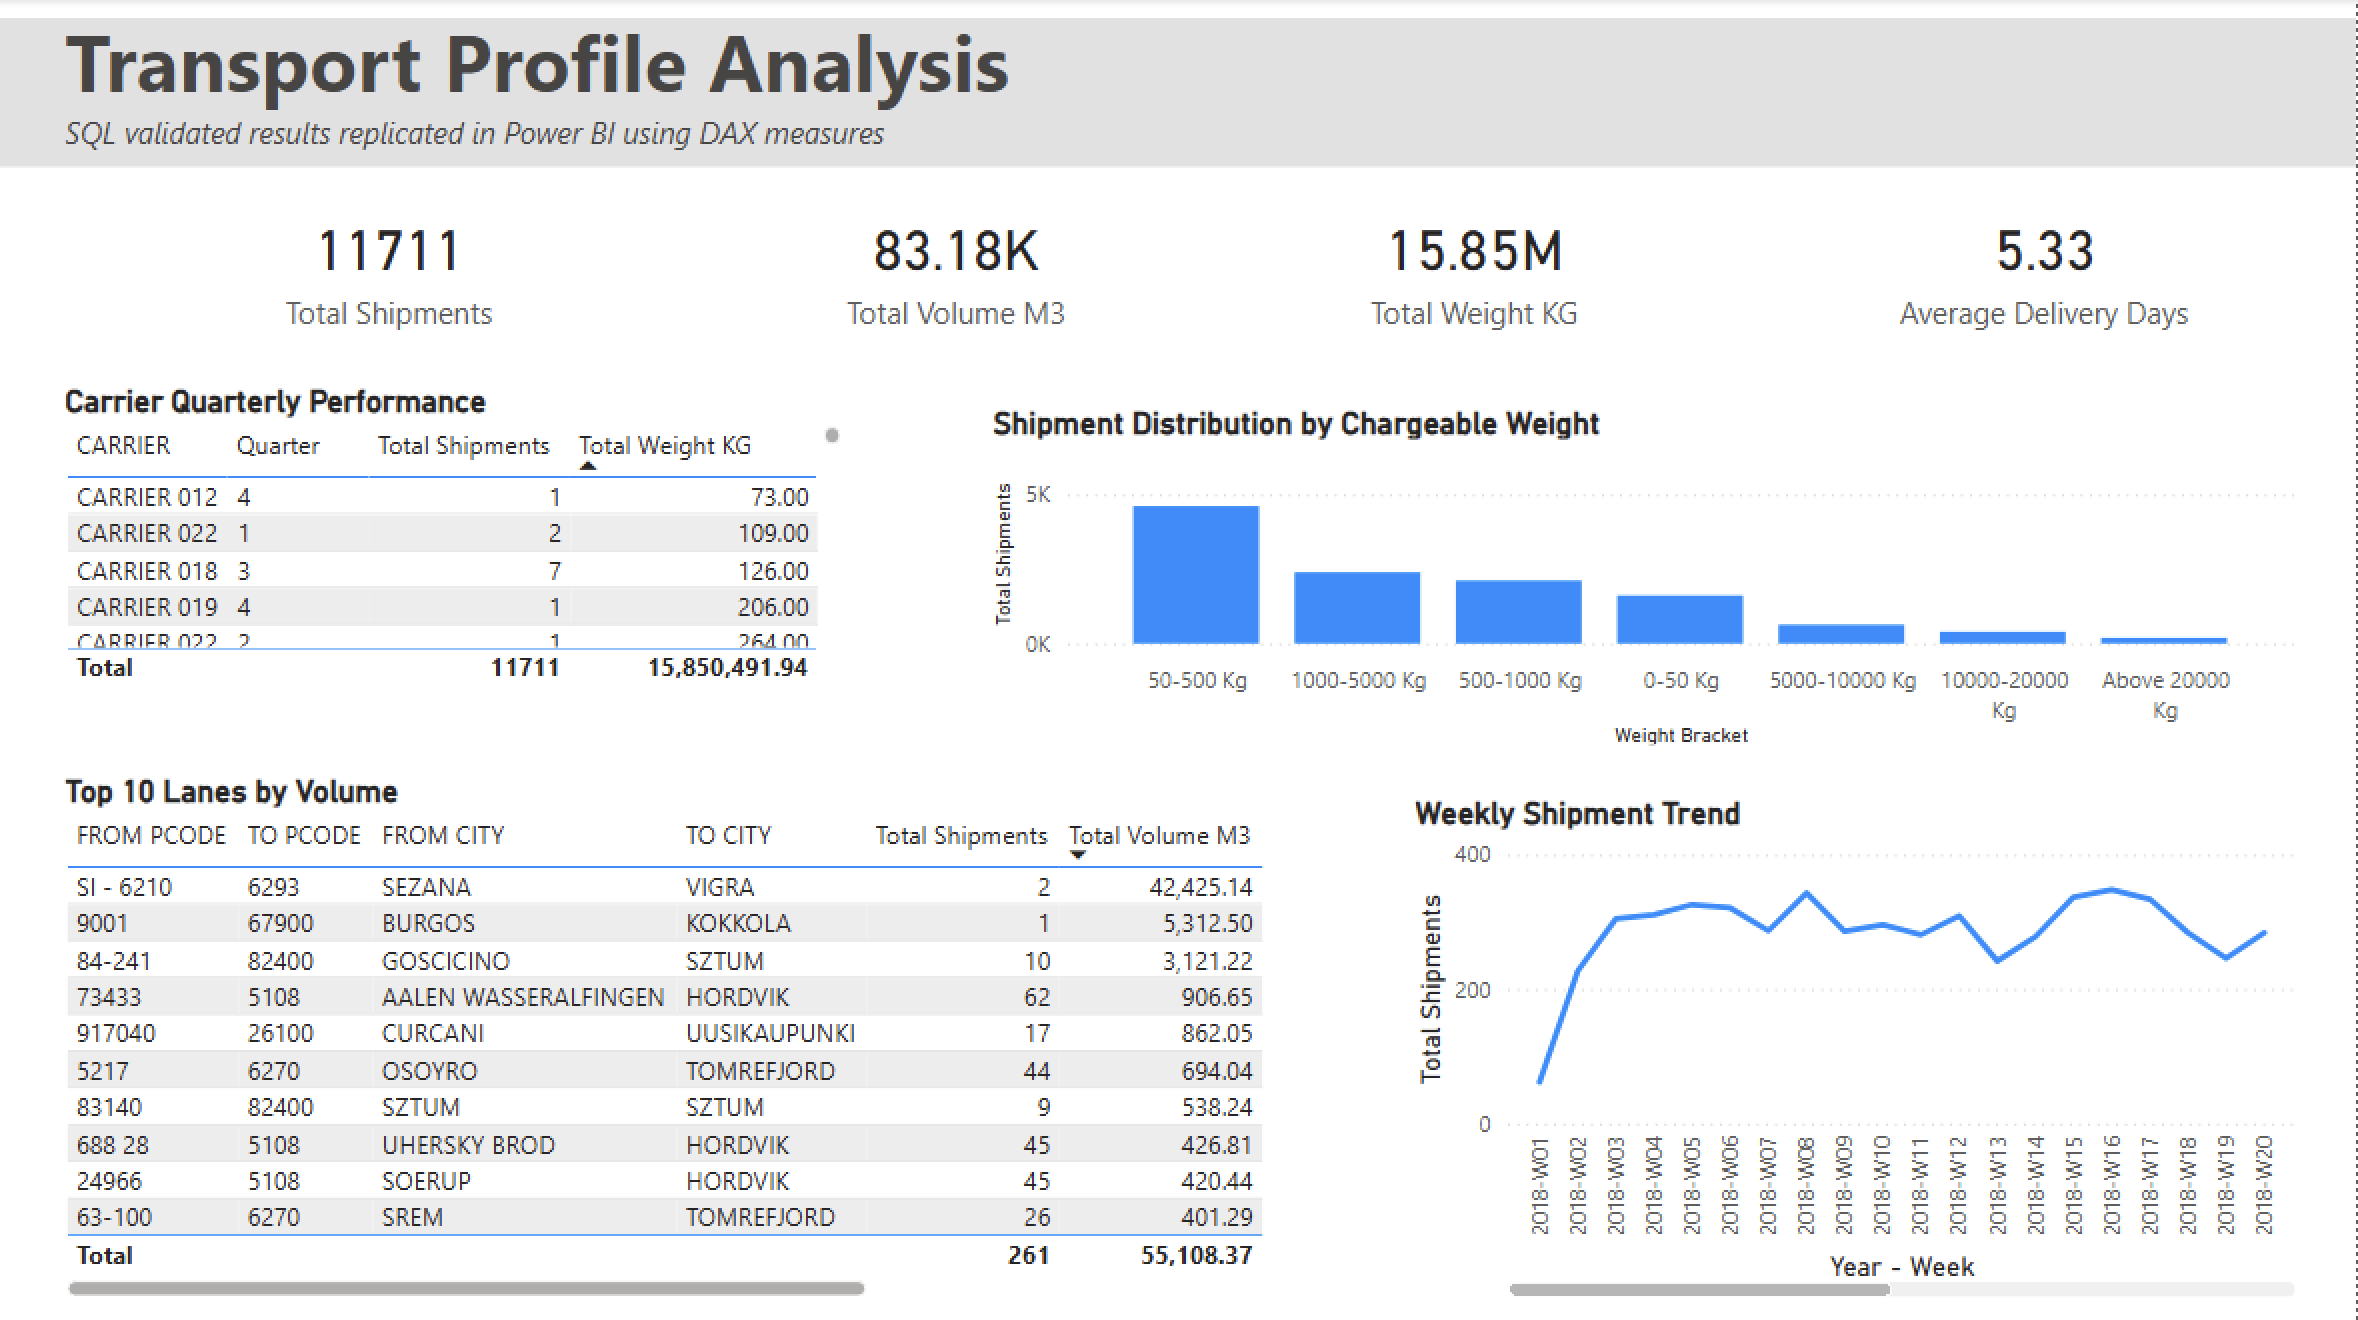

Layout of this report page (visuals, bound fields, positions):
{"tool":"powerbi","page":{"name":"Transport Profile Analysis","canvas":[1280,720],"ordinal":0},"visuals":[{"type":"tableEx","title":"Carrier Quarterly Performance","fields":{"Values":["Table1.CARRIER","Table1.Q","Table1.Total Shipments","Table1.Total Weight KG"]},"box":[30.4,208.5,431.1,169.4],"z":0},{"type":"card","fields":{"Values":["Table1.Average Delivery Days"]},"box":[985,92.3,249.8,107.5],"z":1},{"type":"tableEx","title":"Top 10 Lanes by Volume","fields":{"Values":["Table1.FROM PCODE","Table1.TO PCODE","Table1.FROM CITY","Table1.TO CITY","Table1.Total Shipments","Table1.Total Volume M3","Table1.Lane Detail"]},"box":[30.4,420.3,660.3,290],"z":2},{"type":"lineChart","title":"Weekly Shipment Trend","fields":{"Category":["Table1.Ano Semana"],"Y":["Table1.Total Shipments"]},"box":[763.4,432.2,487.6,278],"z":3},{"type":"columnChart","title":"Shipment Distribution by Chargeable Weight","fields":{"Category":["Table1.Weight Bracket"],"Y":["Table1.Total Shipments"]},"box":[534.3,220.5,716.7,190],"z":4},{"type":"textbox","box":[30.4,0,573.4,92.3],"z":5},{"type":"card","fields":{"Values":["Table1.Total Shipments"]},"box":[79.3,92.3,263.9,107.5],"z":6},{"type":"card","fields":{"Values":["Table1.Total Weight KG"]},"box":[657,92.3,286.7,107.5],"z":7},{"type":"card","fields":{"Values":["Table1.Total Volume M3"]},"box":[381.2,92.3,275.8,107.5],"z":8},{"type":"shape","box":[0,10.9,1280.4,81.4],"z":9}]}

Visuals, with their boxes in screenshot pixels (x1, y1, x2, y2), scaled from the page's 1280x720 canvas onto the 2358x1320 screenshot:
"Carrier Quarterly Performance" tableEx: {"x1": 56, "y1": 382, "x2": 850, "y2": 693}
card - Table1.Average Delivery Days: {"x1": 1815, "y1": 169, "x2": 2275, "y2": 366}
"Top 10 Lanes by Volume" tableEx: {"x1": 56, "y1": 771, "x2": 1272, "y2": 1302}
"Weekly Shipment Trend" lineChart: {"x1": 1406, "y1": 792, "x2": 2305, "y2": 1302}
"Shipment Distribution by Chargeable Weight" columnChart: {"x1": 984, "y1": 404, "x2": 2305, "y2": 753}
textbox: {"x1": 56, "y1": 0, "x2": 1112, "y2": 169}
card - Table1.Total Shipments: {"x1": 146, "y1": 169, "x2": 632, "y2": 366}
card - Table1.Total Weight KG: {"x1": 1210, "y1": 169, "x2": 1738, "y2": 366}
card - Table1.Total Volume M3: {"x1": 702, "y1": 169, "x2": 1210, "y2": 366}
shape: {"x1": 0, "y1": 20, "x2": 2357, "y2": 169}
